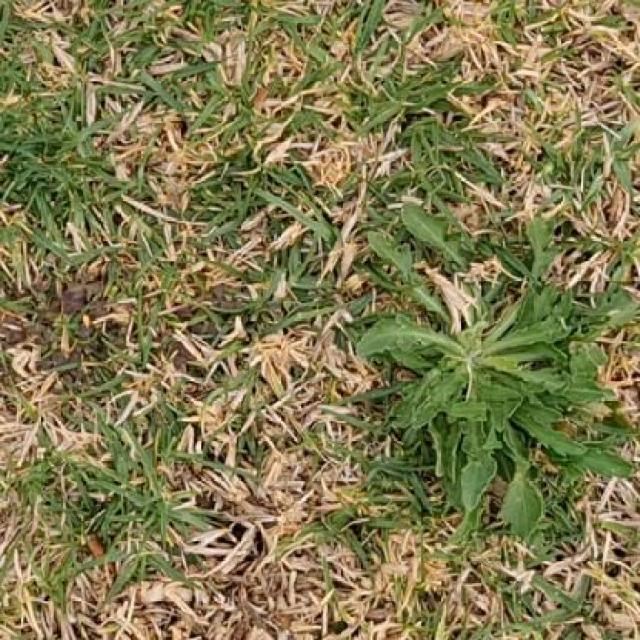weed: (360, 218, 637, 538), (402, 205, 474, 273)
